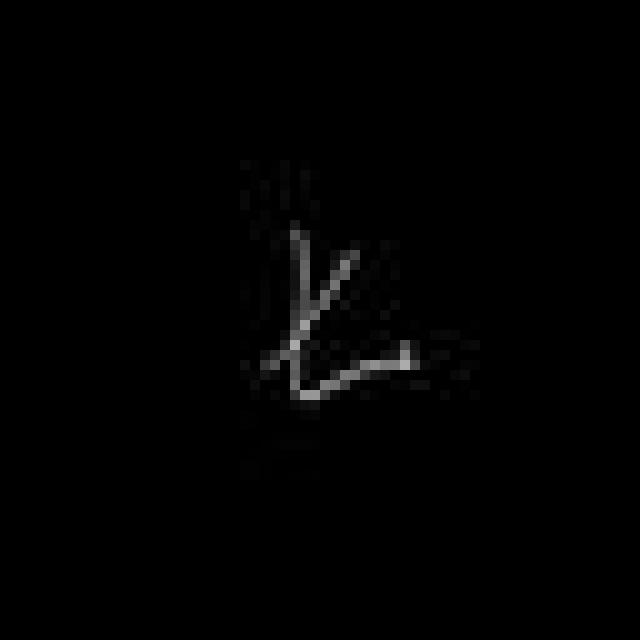7 -seven-: (251, 220, 426, 406)
